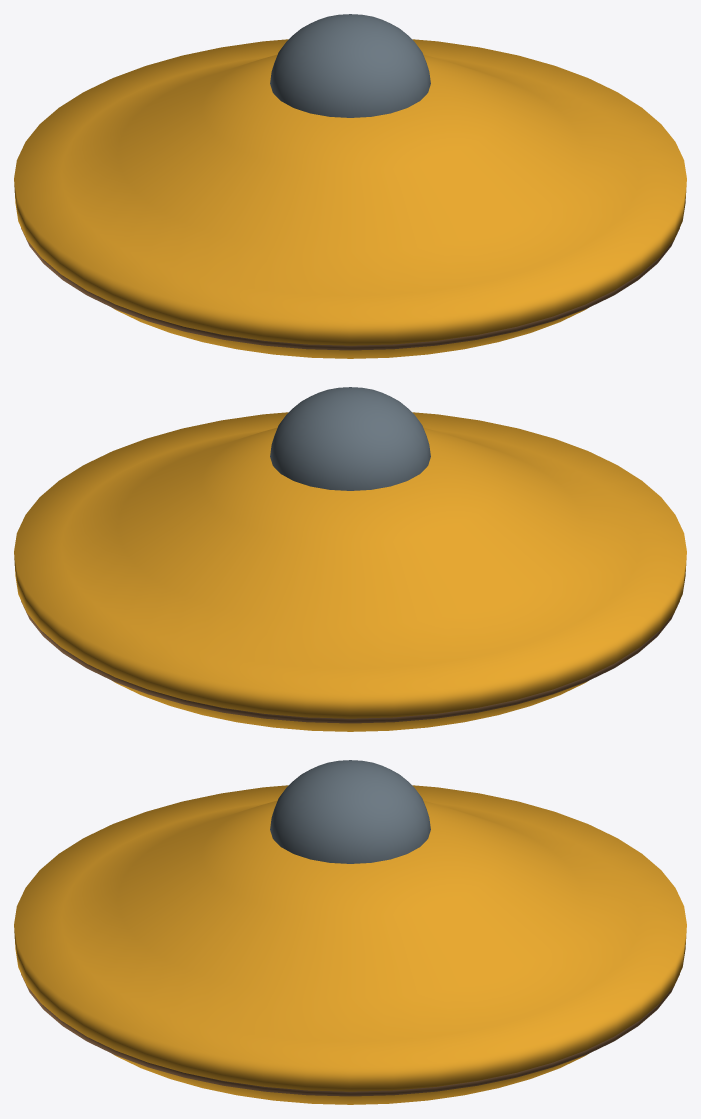
The model's file is eagle_descent.gear_front.main_strut.footpad.glb.
3 renders of one model, top to bottom at view 1: azimuth 30°, elevation 25°; view 2: azimuth 150°, elevation 25°; view 3: azimuth 270°, elevation 25°, orthographic.
Parts seen in each view (by area): view 1: eagle_descent.gear_front.main_strut.footpad.mesh; view 2: eagle_descent.gear_front.main_strut.footpad.mesh; view 3: eagle_descent.gear_front.main_strut.footpad.mesh.
Boxes of the visible parts, bbox=[...] form: eagle_descent.gear_front.main_strut.footpad.mesh: bbox=[14, 14, 686, 358]; eagle_descent.gear_front.main_strut.footpad.mesh: bbox=[14, 387, 686, 731]; eagle_descent.gear_front.main_strut.footpad.mesh: bbox=[14, 760, 686, 1104].
Size of the model in its own units: 0.954 by 0.355 by 0.954.
